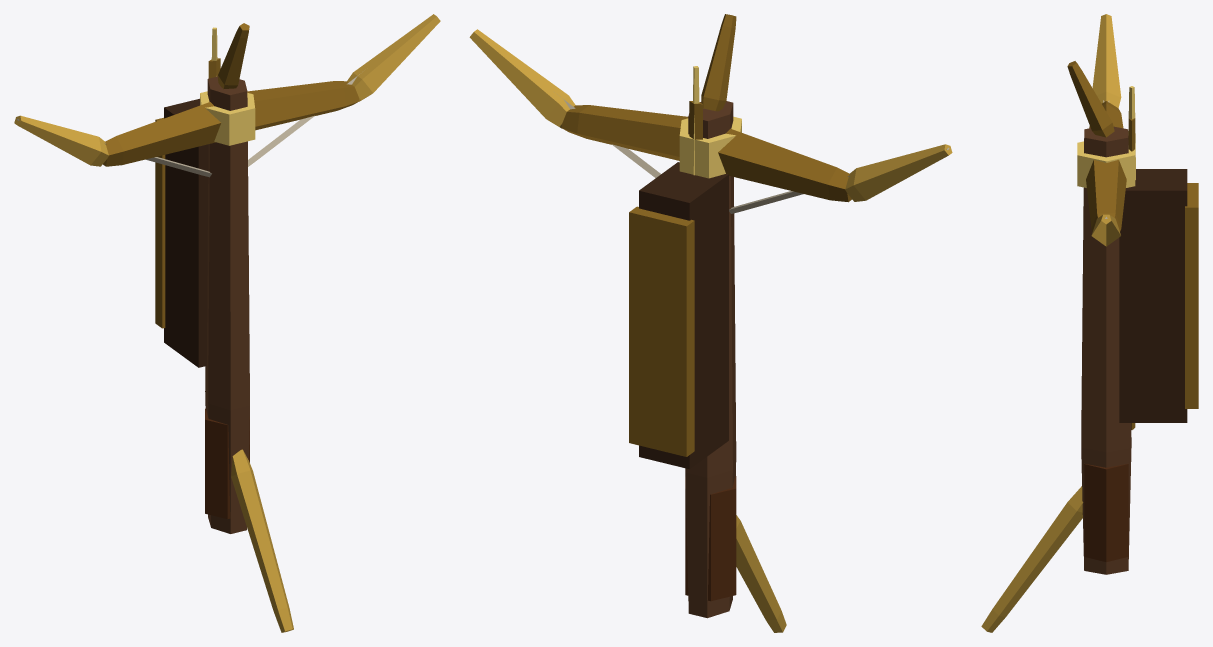
File: wpn_crossbow_5.glb
3 views of the same model, side by side, from view 1: azimuth 30°, elevation 25°; view 2: azimuth 150°, elevation 25°; view 3: azimuth 270°, elevation 25° (orthographic). The views are drawn at different scales.
Visible parts, largest first — view 1: wpn_crossbow_5; view 2: wpn_crossbow_5; view 3: wpn_crossbow_5.
Part boxes in pixels (x1=…): wpn_crossbow_5: x1=14, y1=14, x2=440, y2=632; wpn_crossbow_5: x1=469, y1=14, x2=952, y2=632; wpn_crossbow_5: x1=981, y1=14, x2=1198, y2=632.
Bounding box in the file's own units: 0.5661 × 0.7367 × 0.2543.
